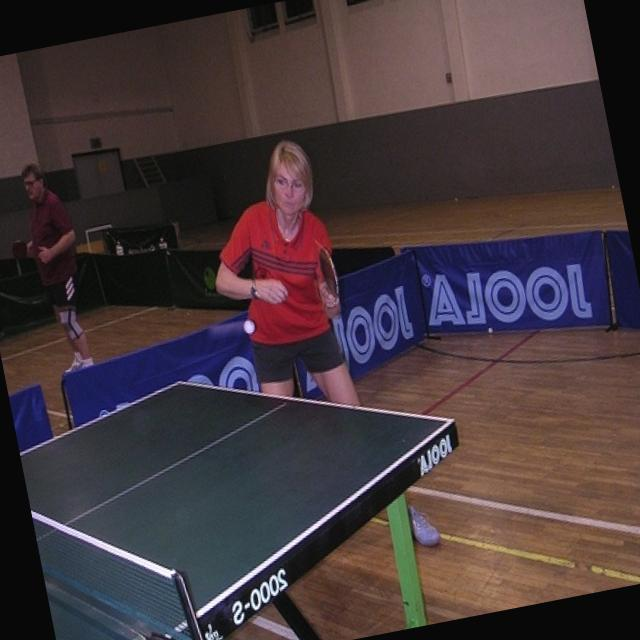TT Net: (6, 510, 221, 640)
TT Racket: (311, 239, 348, 311), (7, 233, 35, 267)
TT Table: (0, 282, 482, 640)
